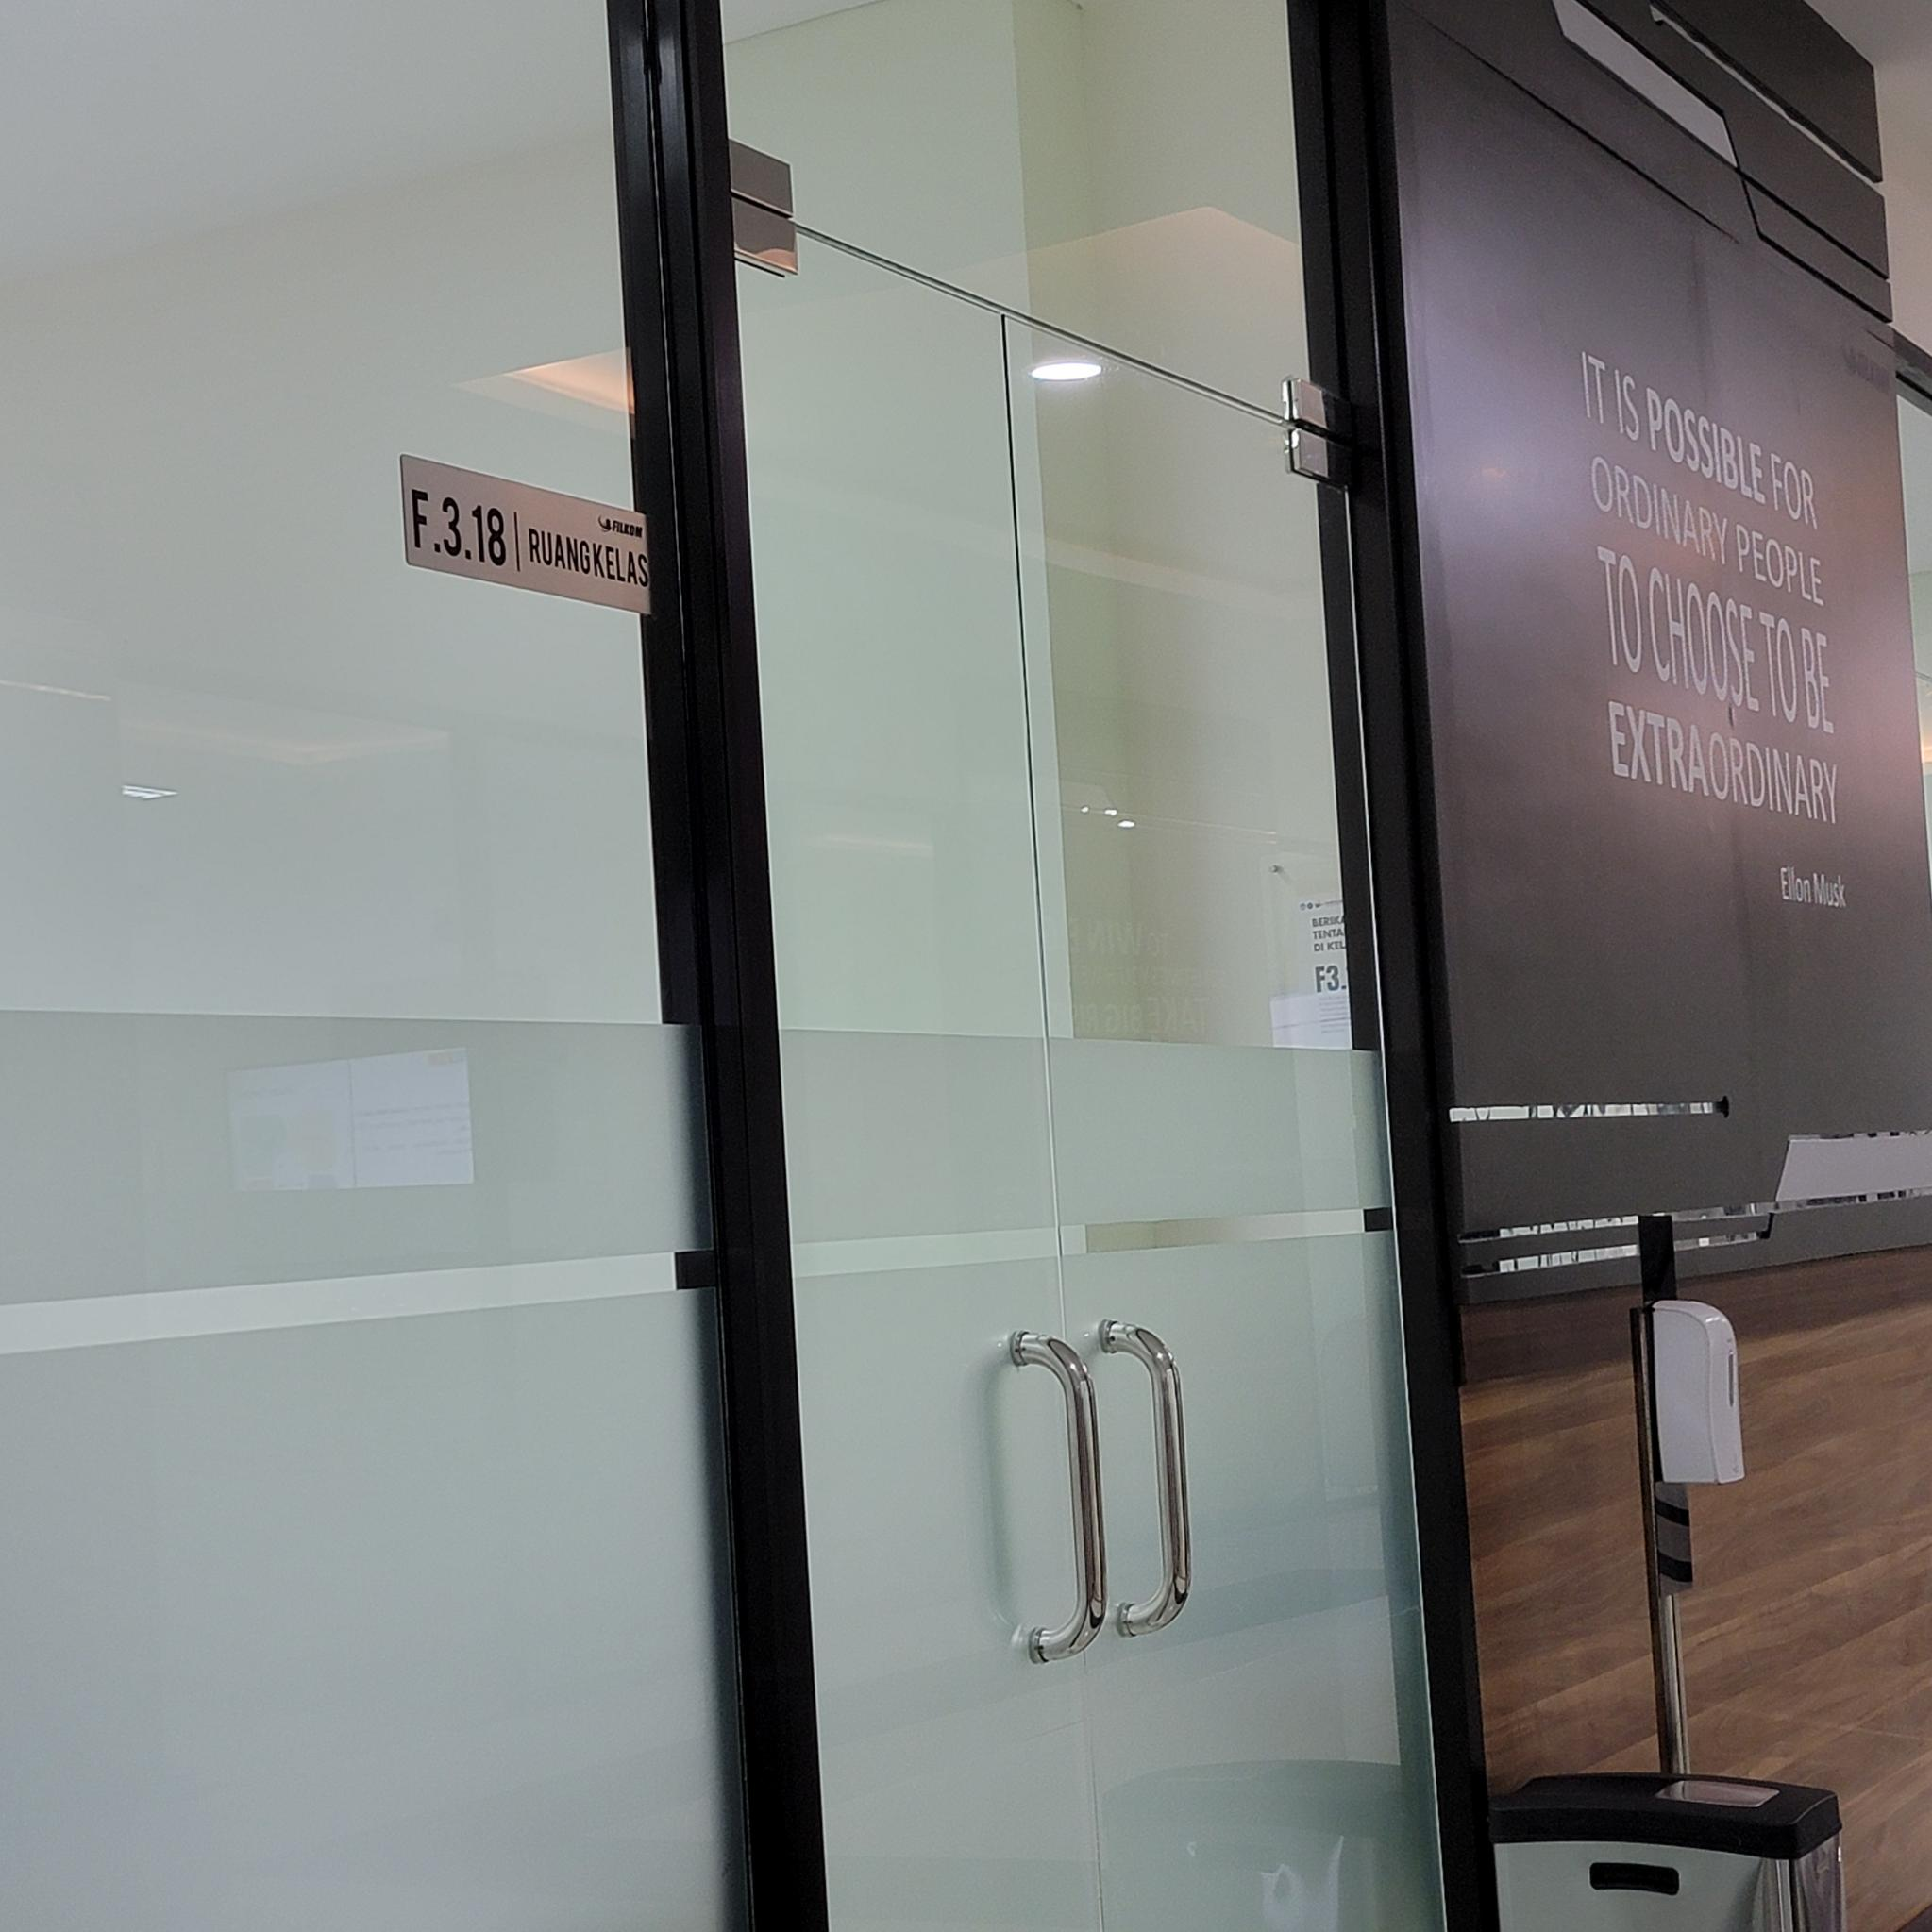plate: (398, 449, 660, 621)
